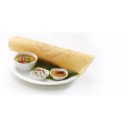dosa: (7, 34, 96, 72)
